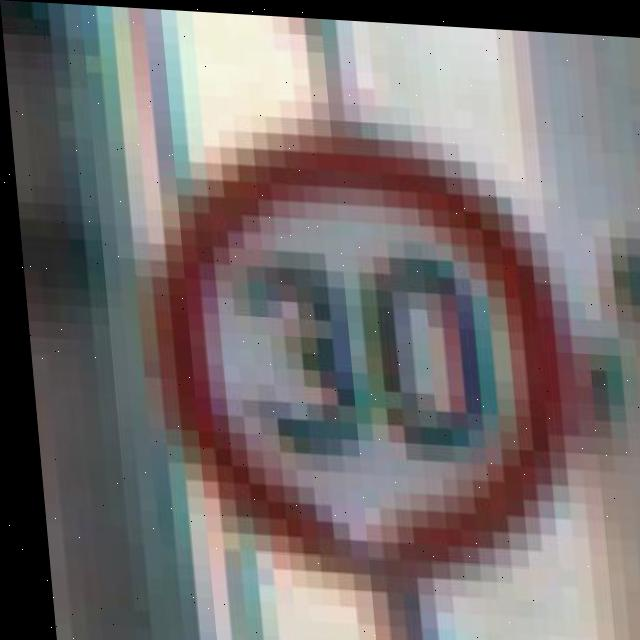Speed limit 30: (133, 113, 583, 575)
